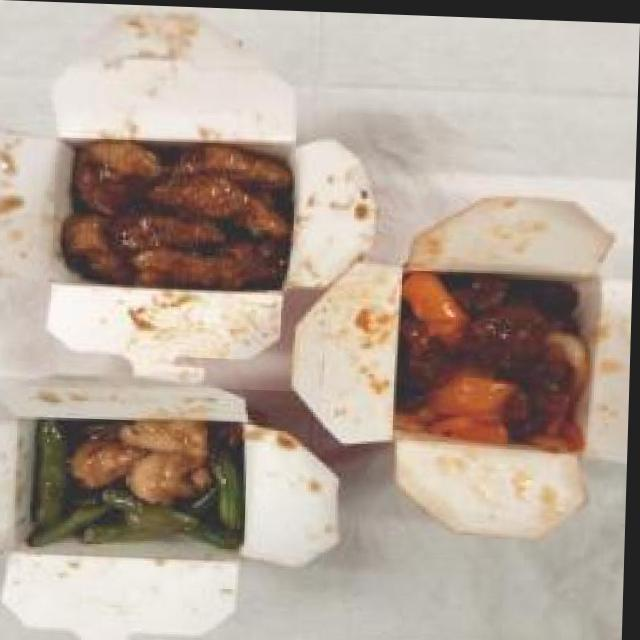Beijing Beef: (393, 264, 600, 448)
String Bean Chicken Breast: (22, 409, 251, 561)
The Original Orange Chicken: (58, 130, 302, 297)
